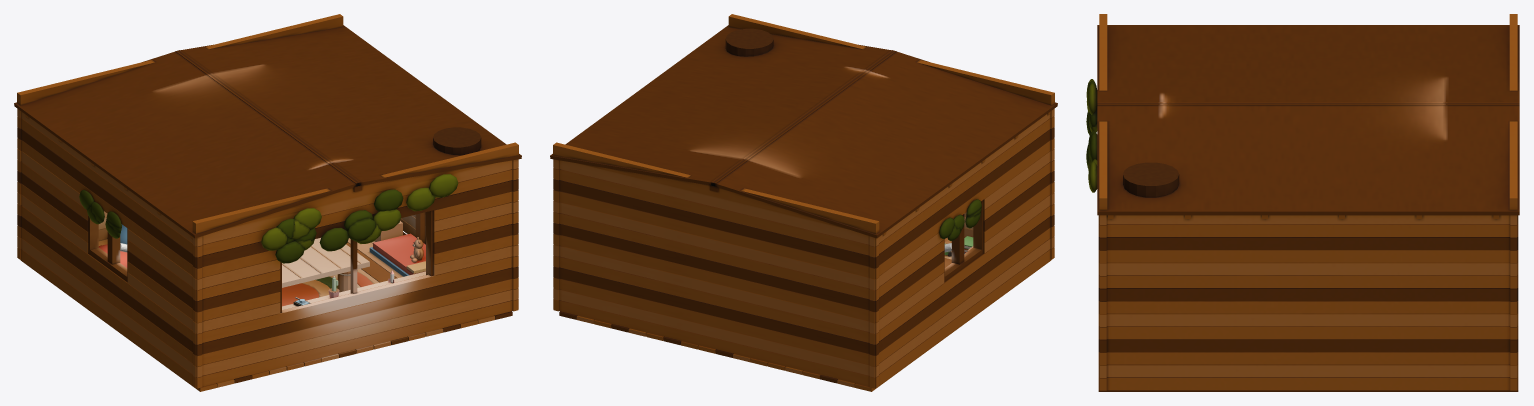
3 views of the same model, side by side, from view 1: azimuth 30°, elevation 25°; view 2: azimuth 150°, elevation 25°; view 3: azimuth 270°, elevation 25° (orthographic). The views are drawn at different scales.
Visible parts, largest first — view 1: Treehouse / baked game mesh; view 2: Treehouse / baked game mesh; view 3: Treehouse / baked game mesh.
Boxes of the visible parts, x1=… form: Treehouse / baked game mesh: x1=14, y1=14, x2=521, y2=391; Treehouse / baked game mesh: x1=550, y1=14, x2=1057, y2=391; Treehouse / baked game mesh: x1=1086, y1=14, x2=1519, y2=391.
Size of the model in its own units: 6.61 by 3.29 by 6.47.
Materials: 1 (1 with a texture image).
